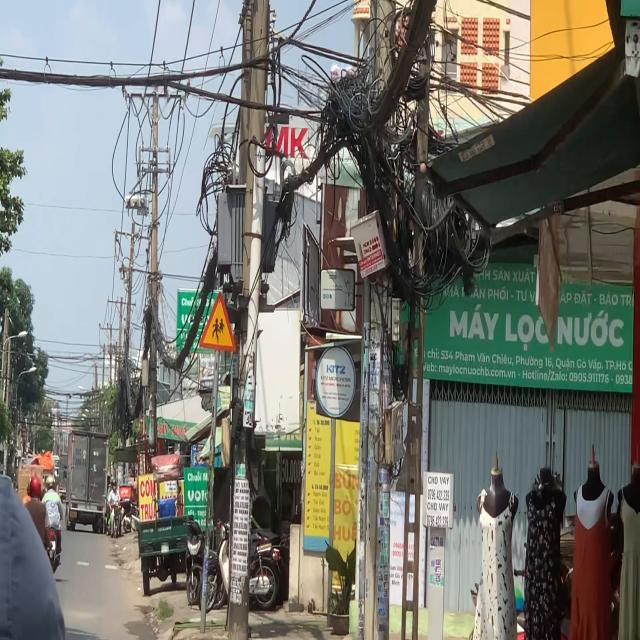Nguy hiem: (199, 291, 236, 353)
